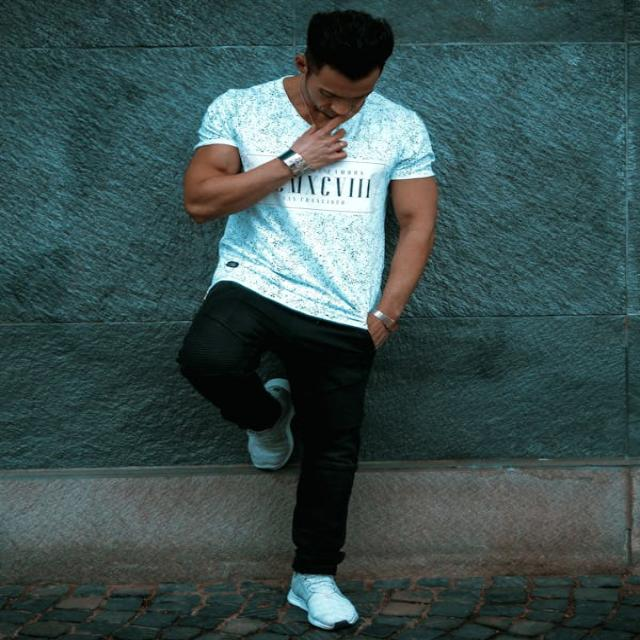Real human 2: (164, 6, 483, 640)
